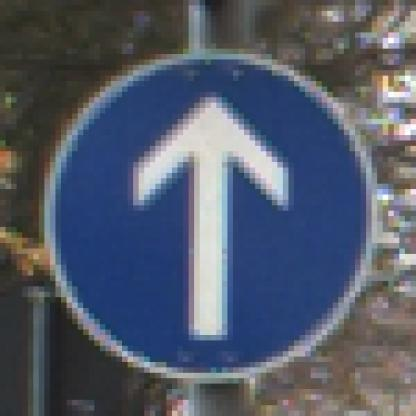straight: (27, 43, 388, 389)
